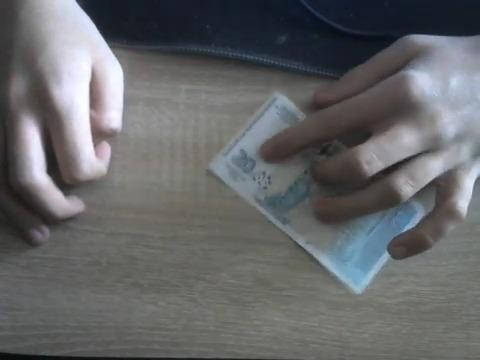20leva: (207, 94, 438, 296)
